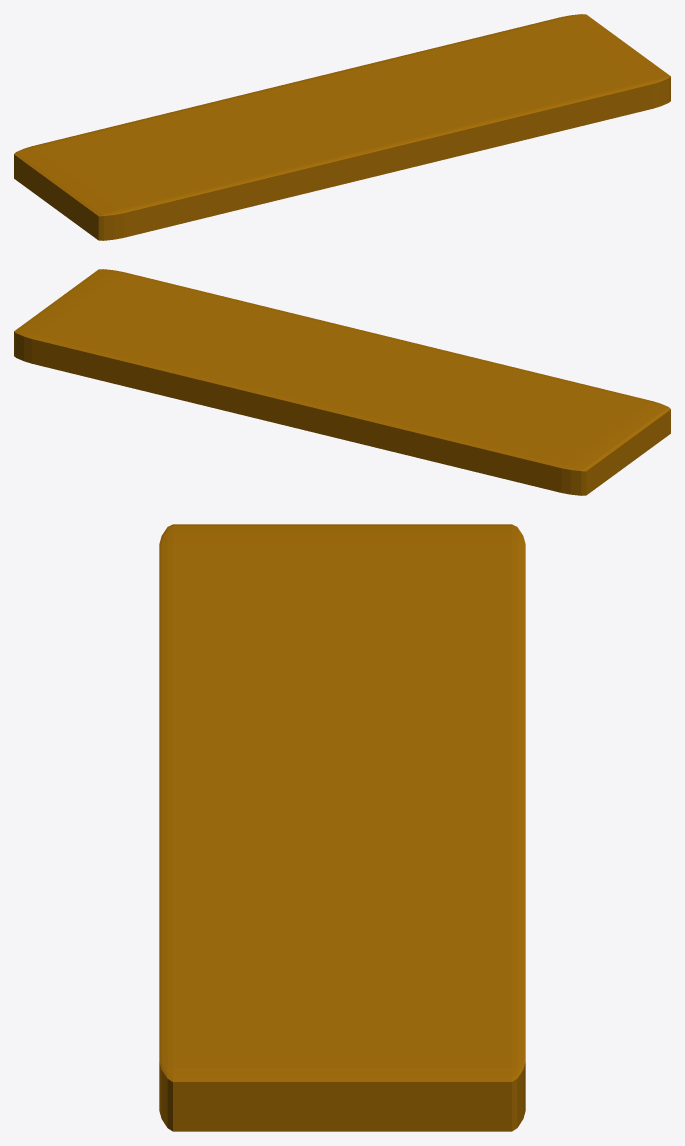
File: plank 1.fbx
The picture shows the model from 3 angles, top to bottom: view 1: azimuth 30°, elevation 25°; view 2: azimuth 150°, elevation 25°; view 3: azimuth 270°, elevation 25°; orthographic projection. The views are drawn at different scales.
Parts seen in each view (by area): view 1: Cube; view 2: Cube; view 3: Cube.
Part boxes in pixels (box(x1,y1,x2,y2)): Cube: box(14, 14, 670, 240); Cube: box(14, 269, 670, 495); Cube: box(159, 524, 525, 1131).
Size of the model in its own units: 722 by 32.19 by 200.
